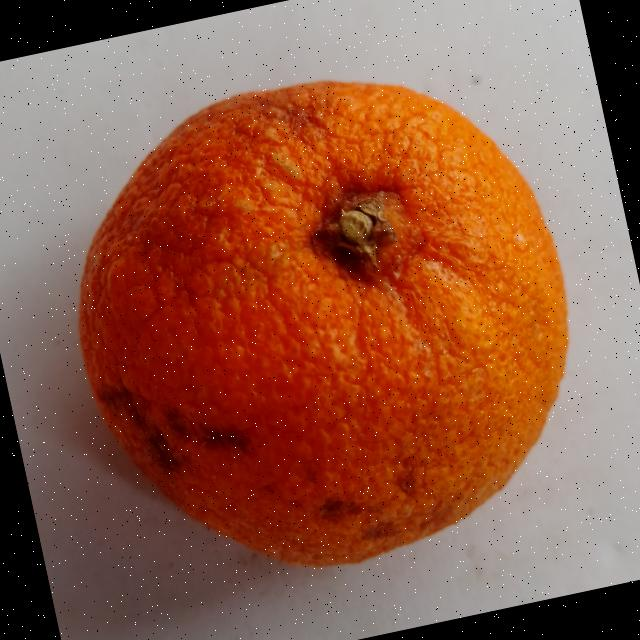overripe: (24, 19, 618, 614)
